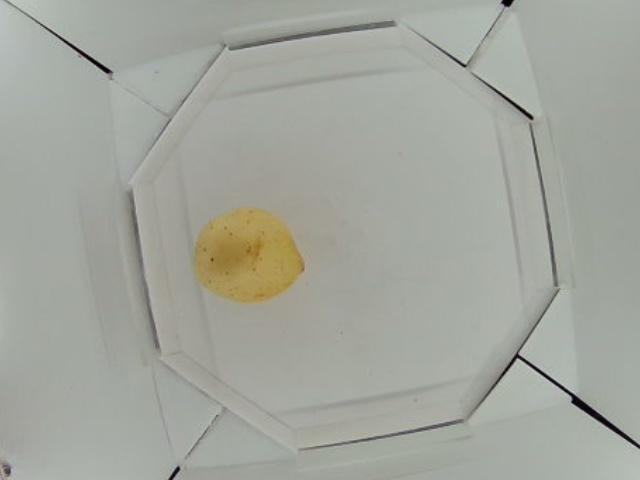Potato: (188, 205, 308, 303)
